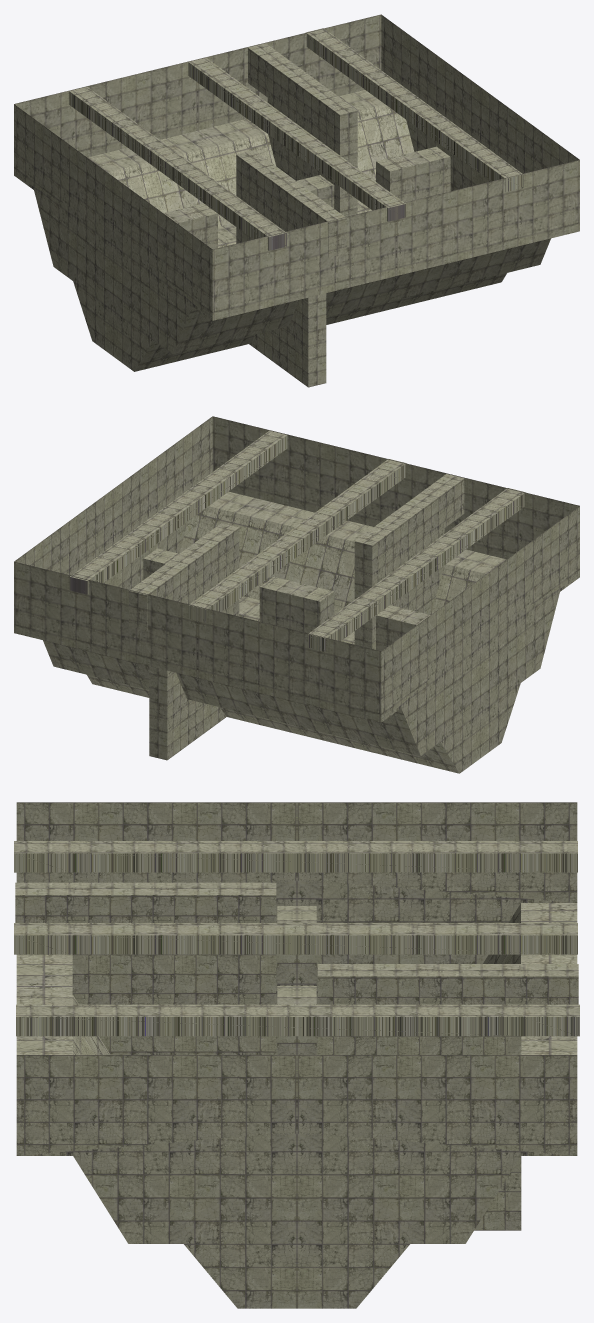
File: SM_LDFest_Template_00.fbx
3 views of the same model, one above another, from view 1: azimuth 30°, elevation 25°; view 2: azimuth 150°, elevation 25°; view 3: azimuth 270°, elevation 25° (orthographic). The views are drawn at different scales.
Parts seen in each view (by area): view 1: SM_LDFest_Template_00; view 2: SM_LDFest_Template_00; view 3: SM_LDFest_Template_00.
Boxes of the visible parts, x1,y1,x2,y2 form: SM_LDFest_Template_00: [14, 14, 579, 387]; SM_LDFest_Template_00: [14, 416, 579, 773]; SM_LDFest_Template_00: [14, 802, 579, 1308].
Size of the model in its own units: 6797 by 3197 by 6430.
